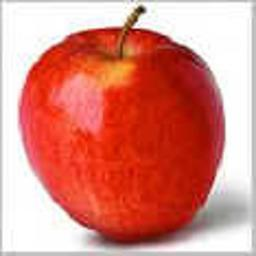apple: (19, 17, 225, 240)
